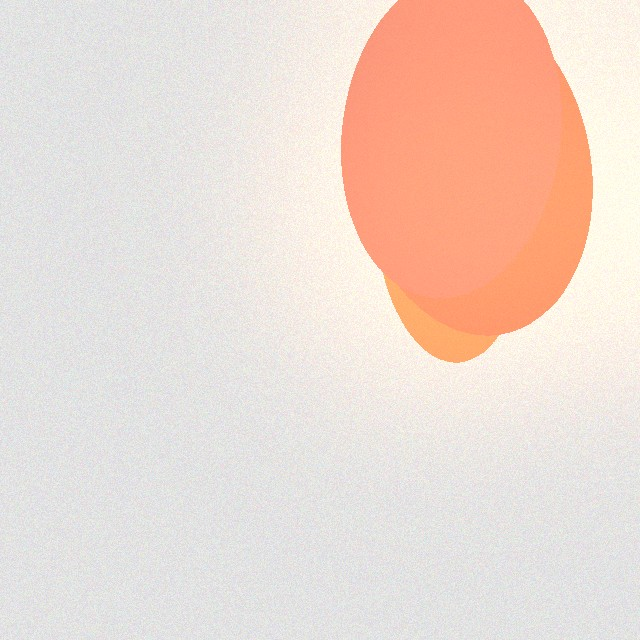fire: (349, 107, 587, 291)
